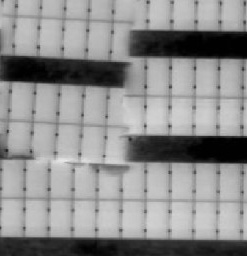solar: (21, 158, 52, 200), (46, 195, 77, 237), (46, 158, 76, 200), (71, 159, 101, 201), (142, 160, 172, 202), (166, 160, 196, 202), (191, 159, 221, 201), (214, 159, 244, 201), (142, 54, 172, 96), (167, 55, 197, 97), (192, 55, 222, 97), (215, 55, 245, 97), (215, 93, 245, 135), (192, 93, 222, 135), (167, 93, 197, 135), (141, 93, 171, 135), (1, 158, 31, 200), (70, 195, 100, 237), (95, 197, 125, 239), (118, 197, 148, 239), (143, 197, 173, 239), (167, 197, 197, 239), (191, 198, 221, 240), (216, 198, 246, 240), (8, 80, 38, 122), (31, 81, 61, 123), (56, 82, 86, 124), (81, 84, 111, 126), (4, 118, 34, 160), (28, 120, 58, 162), (55, 120, 85, 162), (78, 122, 108, 164), (12, 14, 42, 56), (36, 16, 66, 58), (60, 17, 90, 59), (85, 18, 115, 60), (118, 158, 148, 200), (23, 195, 52, 237), (1, 195, 29, 237)
